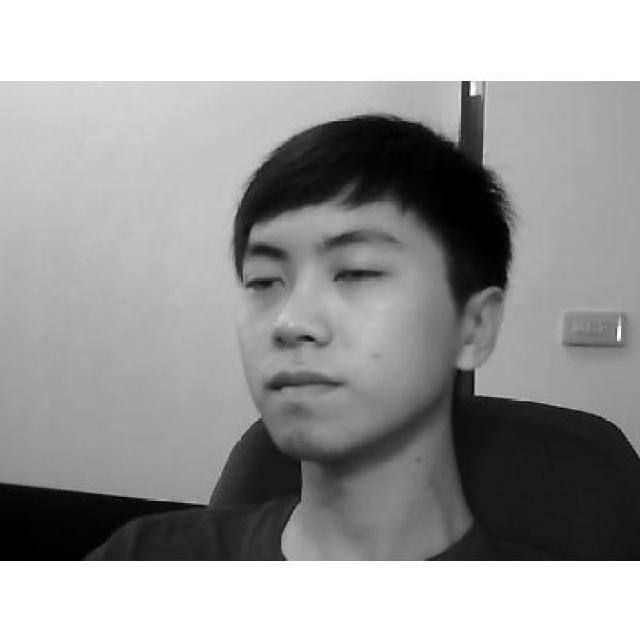inattentif: (233, 112, 502, 457)
